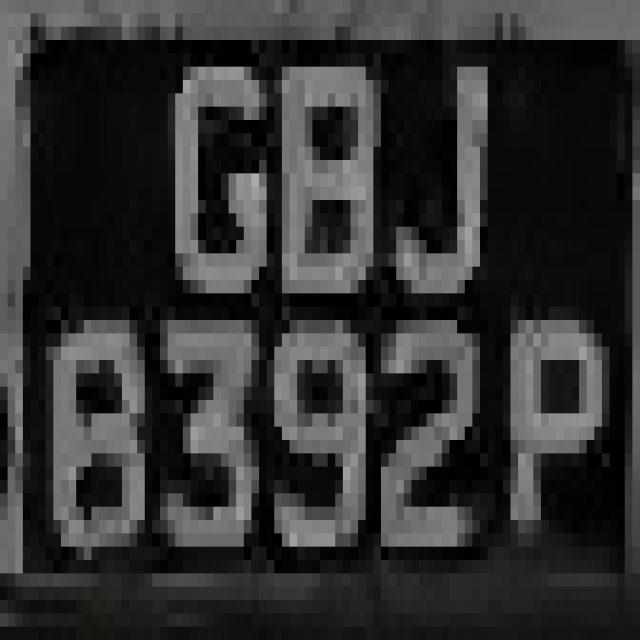2: (366, 320, 488, 560)
3: (144, 267, 266, 573)
6: (46, 307, 144, 573)
9: (244, 280, 373, 573)
B: (267, 40, 396, 320)
G: (153, 26, 274, 346)
J: (396, 13, 503, 320)
P: (495, 280, 602, 547)
